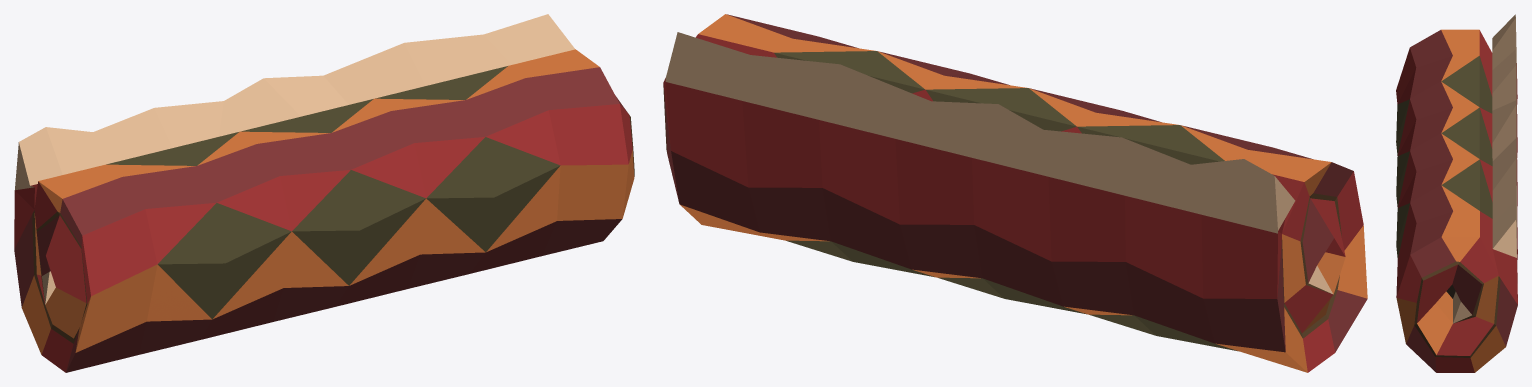
Rendered from carpet_roll_rhomb.fbx.
3 renders of one model, left to right at view 1: azimuth 30°, elevation 25°; view 2: azimuth 150°, elevation 25°; view 3: azimuth 270°, elevation 25°, orthographic. The views are drawn at different scales.
Parts seen in each view (by area): view 1: carpet_rool_rhomb; view 2: carpet_rool_rhomb; view 3: carpet_rool_rhomb.
Boxes of the visible parts, x1,y1,x2,y2 form: carpet_rool_rhomb: (14,14,634,372); carpet_rool_rhomb: (663,14,1367,372); carpet_rool_rhomb: (1396,14,1517,372).
Bounding box in the file's own units: 1.48 × 0.5107 × 0.3494.
